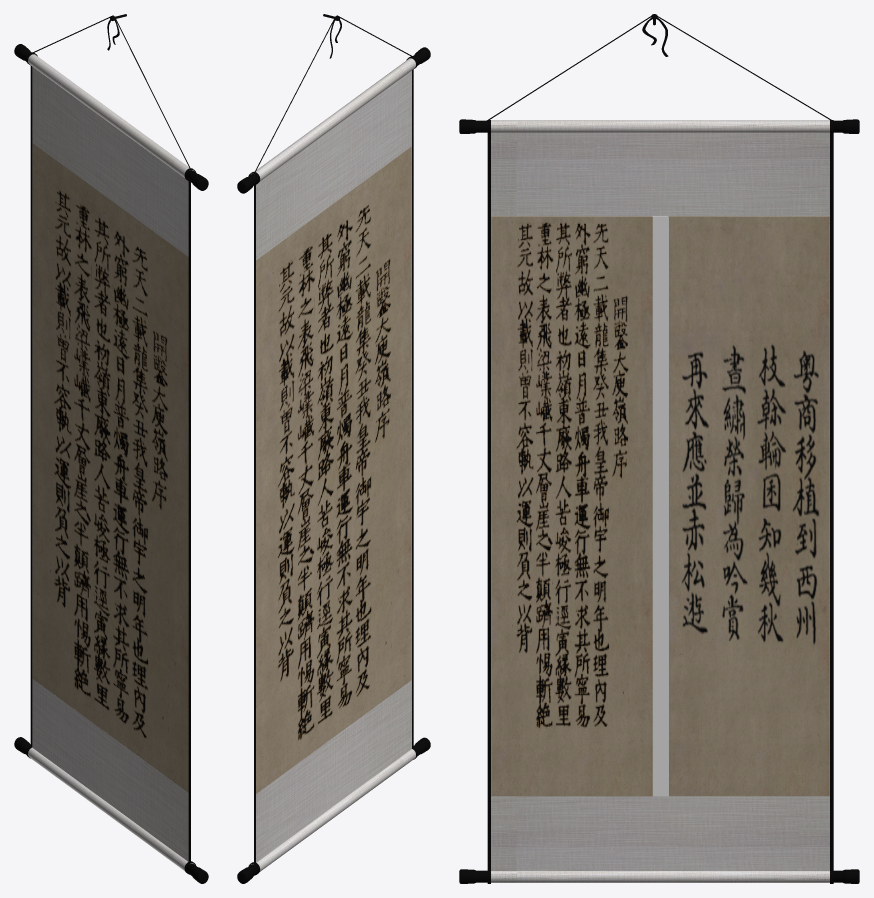
3 views of the same model, side by side, from view 1: azimuth 30°, elevation 25°; view 2: azimuth 150°, elevation 25°; view 3: azimuth 270°, elevation 25° (orthographic). The views are drawn at different scales.
Visible parts, largest first — view 1: ST-诗词; view 2: ST-诗词; view 3: ST-诗词.
Part boxes in pixels (x1,y1,x2,y2): ST-诗词: (14,14,208,883); ST-诗词: (237,14,430,883); ST-诗词: (459,14,859,883).
Bounding box in the file's own units: 0.0374 × 0.6675 × 1.6.
